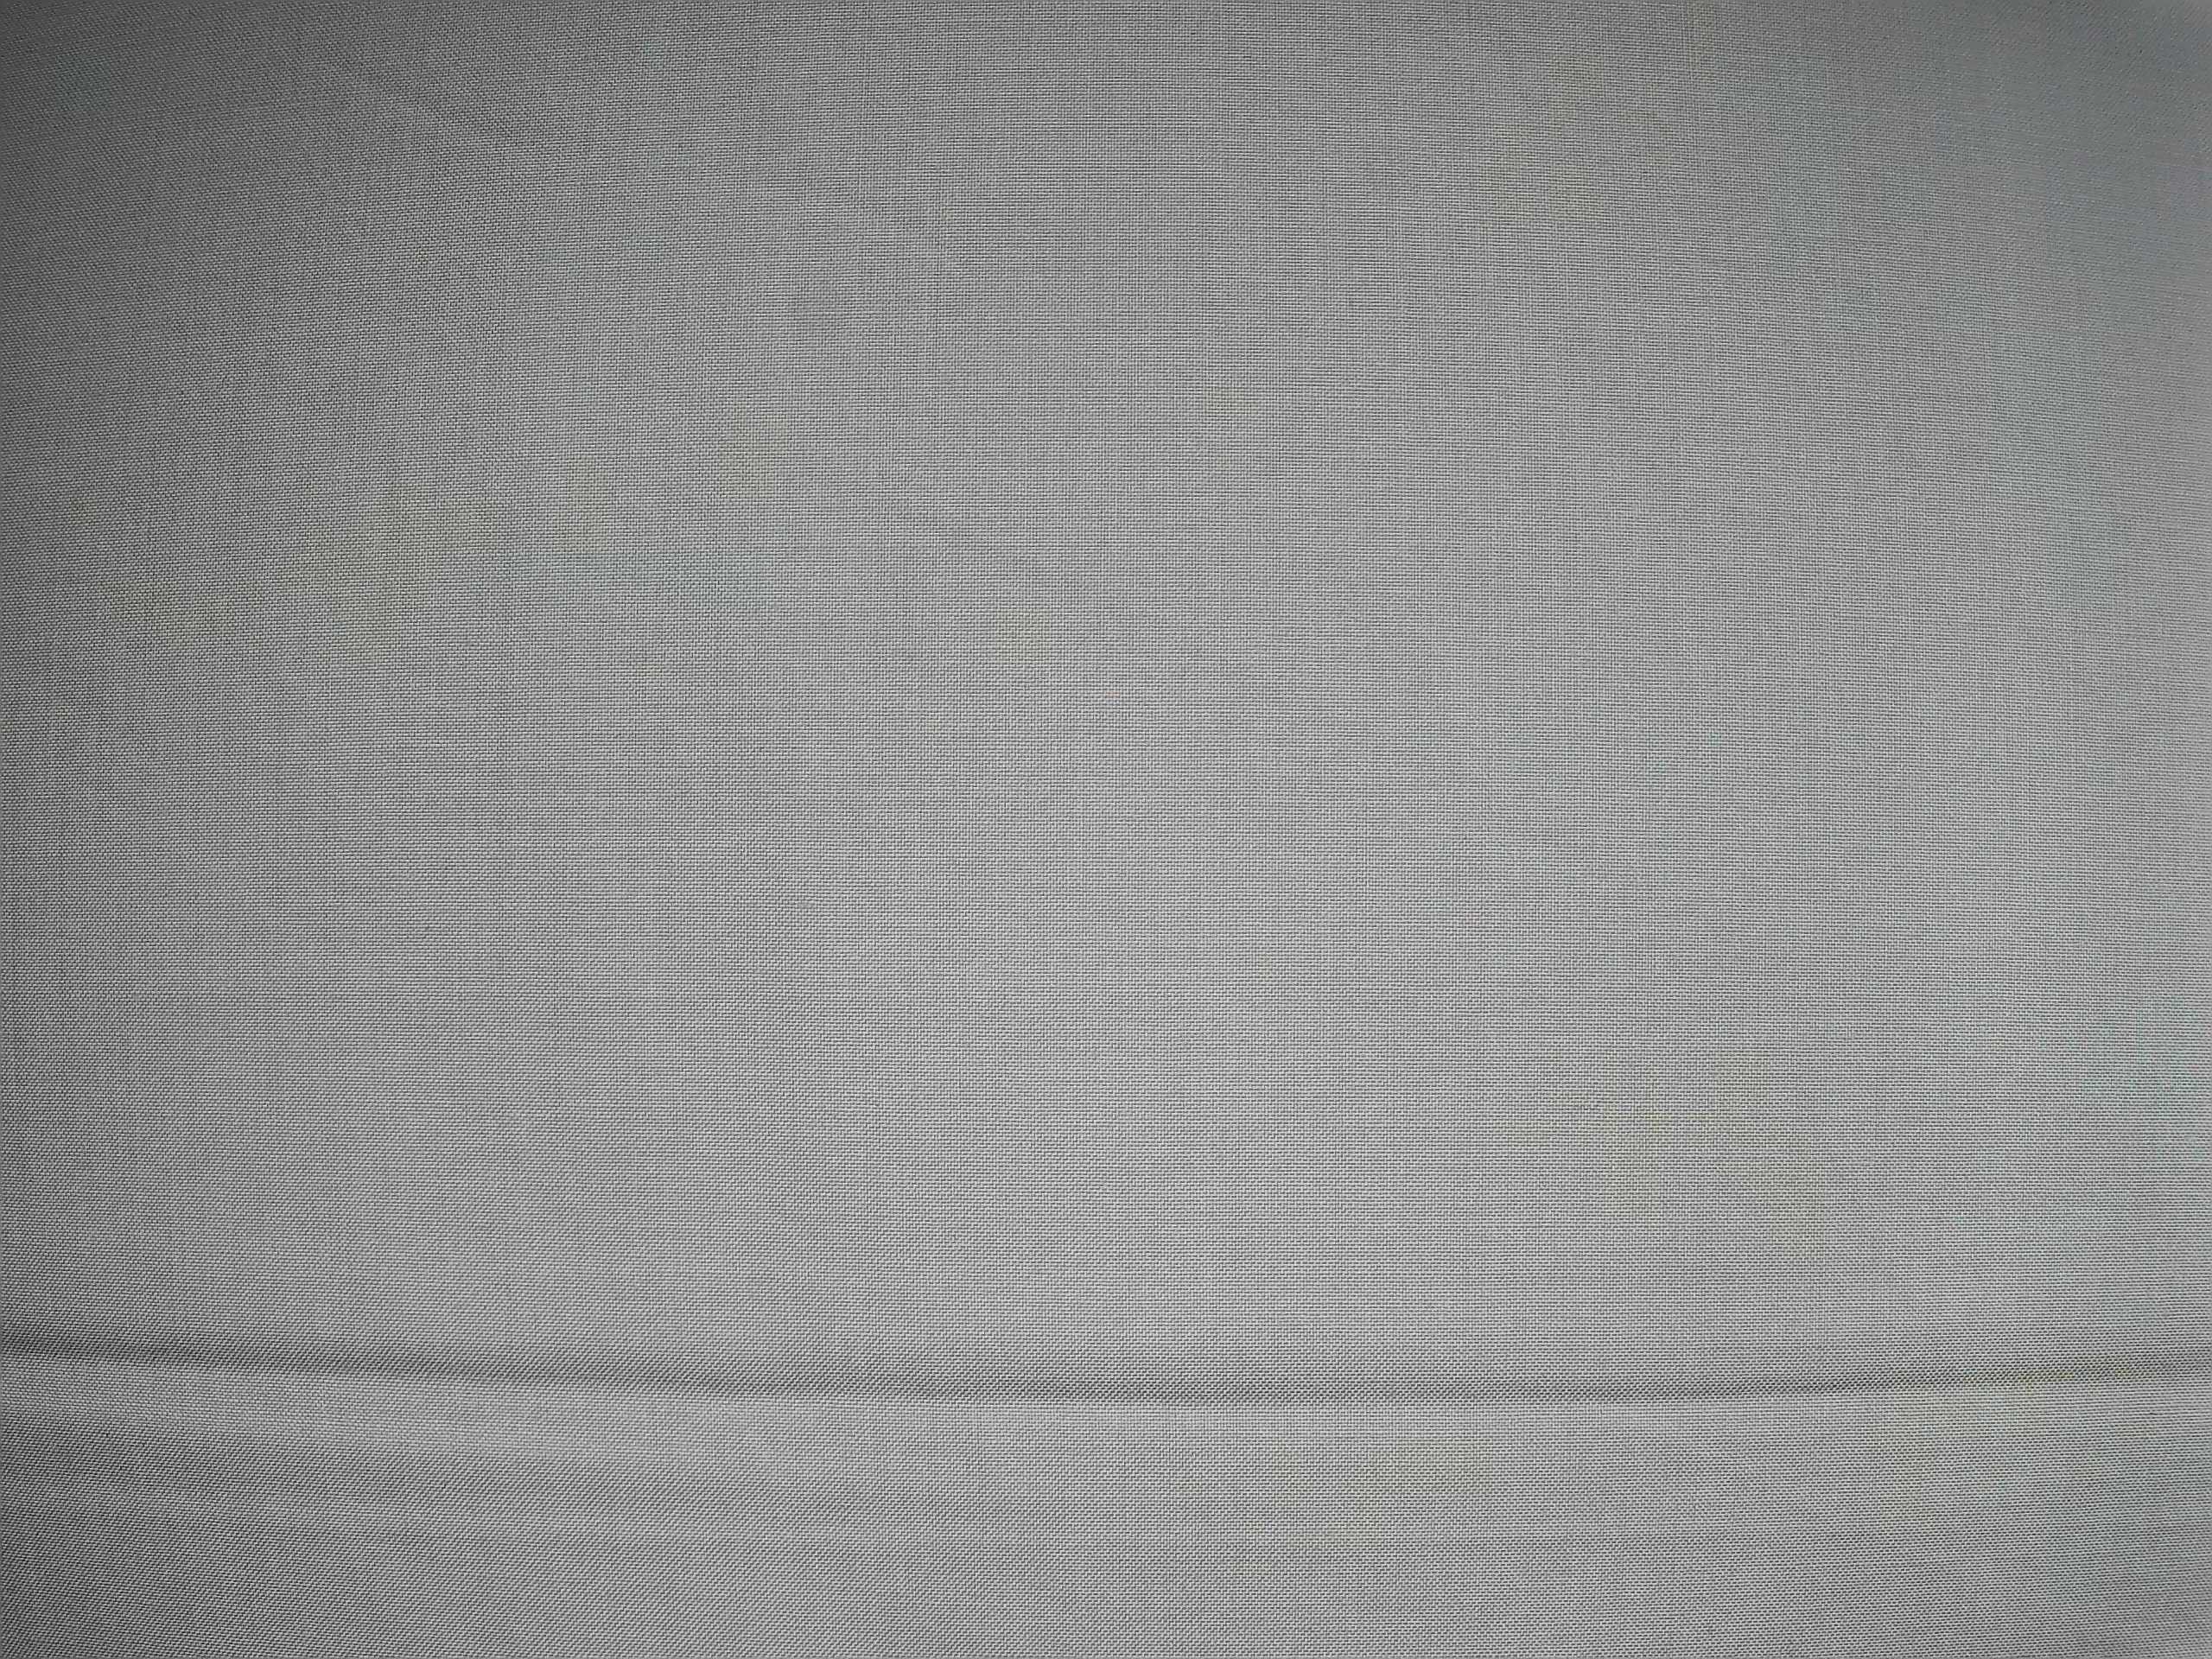stains: (124, 410, 588, 677), (1627, 1084, 1964, 1367)
